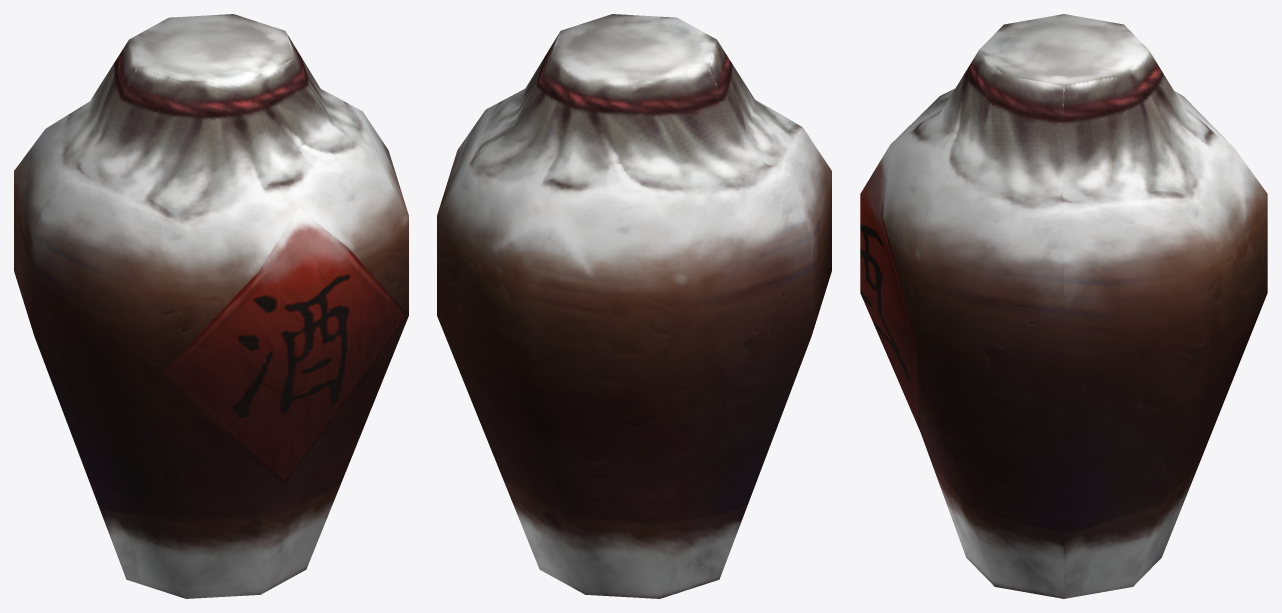
The model's file is SV_AFT_snow_jiuguan1_0.FBX.
The picture shows the model from 3 angles, left to right: view 1: azimuth 30°, elevation 25°; view 2: azimuth 150°, elevation 25°; view 3: azimuth 270°, elevation 25°; orthographic projection.
Visible parts, largest first — view 1: SV_AFT_snow_jiuguan1_0; view 2: SV_AFT_snow_jiuguan1_0; view 3: SV_AFT_snow_jiuguan1_0.
Boxes of the visible parts, x1,y1,x2,y2 form: SV_AFT_snow_jiuguan1_0: (14, 14, 408, 598); SV_AFT_snow_jiuguan1_0: (437, 14, 831, 598); SV_AFT_snow_jiuguan1_0: (860, 14, 1267, 598).
Size of the model in its own units: 1.16 by 1.6 by 1.16.
